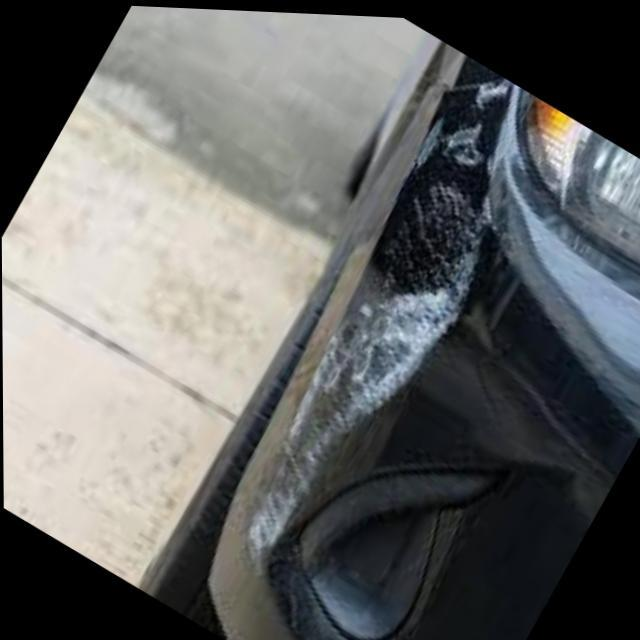rub: (246, 67, 512, 553)
